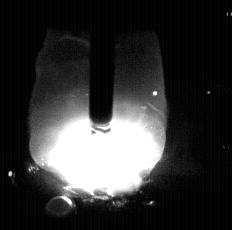arame: (89, 0, 115, 127)
poca: (30, 0, 167, 230)
